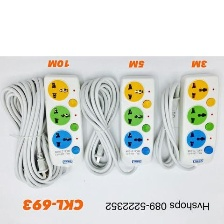three_eye_plug: (107, 71, 159, 170), (37, 71, 88, 170), (174, 69, 221, 171)
